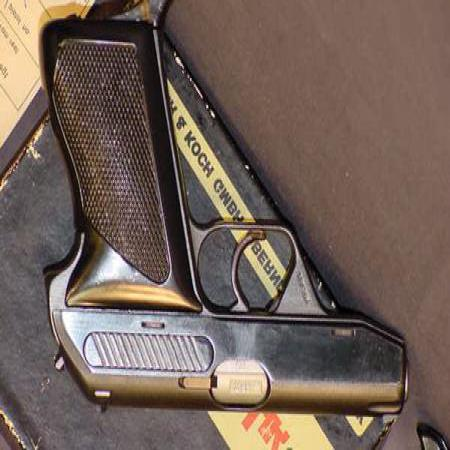Pistol: (37, 24, 408, 418)
